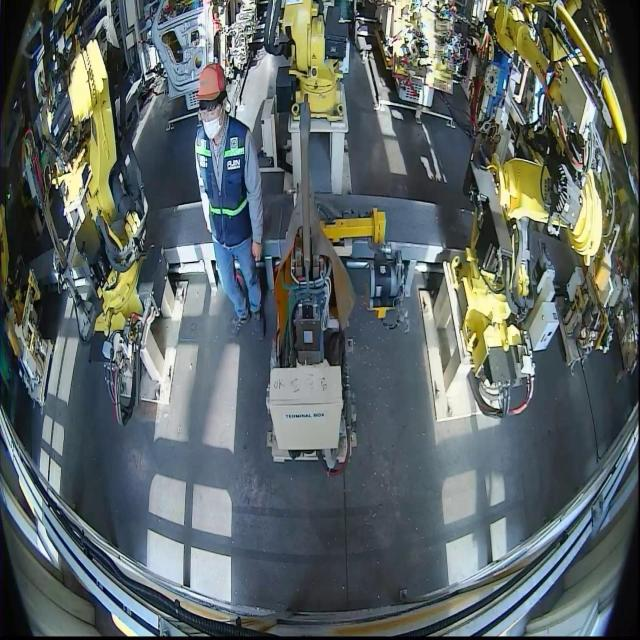Person: (193, 62, 264, 340)
